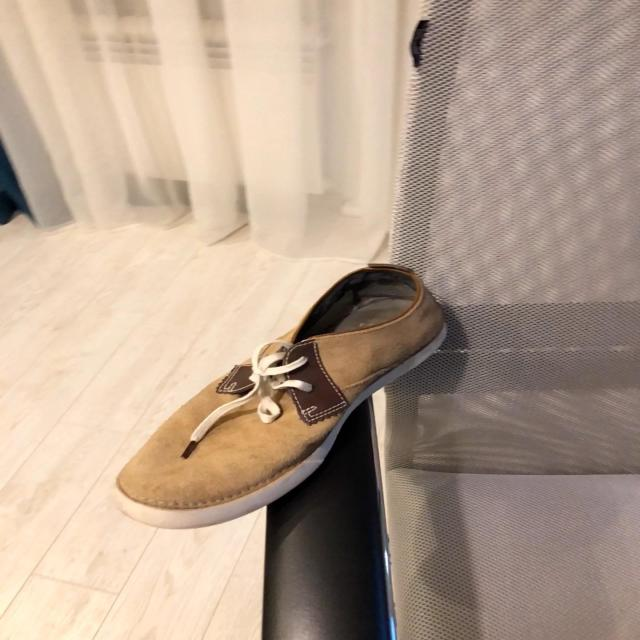shoe: (117, 264, 449, 514)
